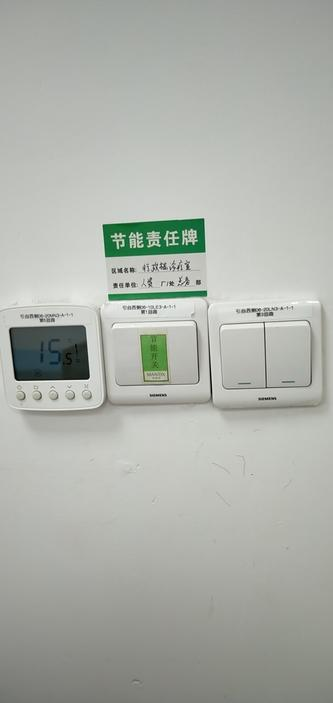switch: (109, 320, 207, 390), (214, 322, 264, 390), (264, 322, 311, 391)
